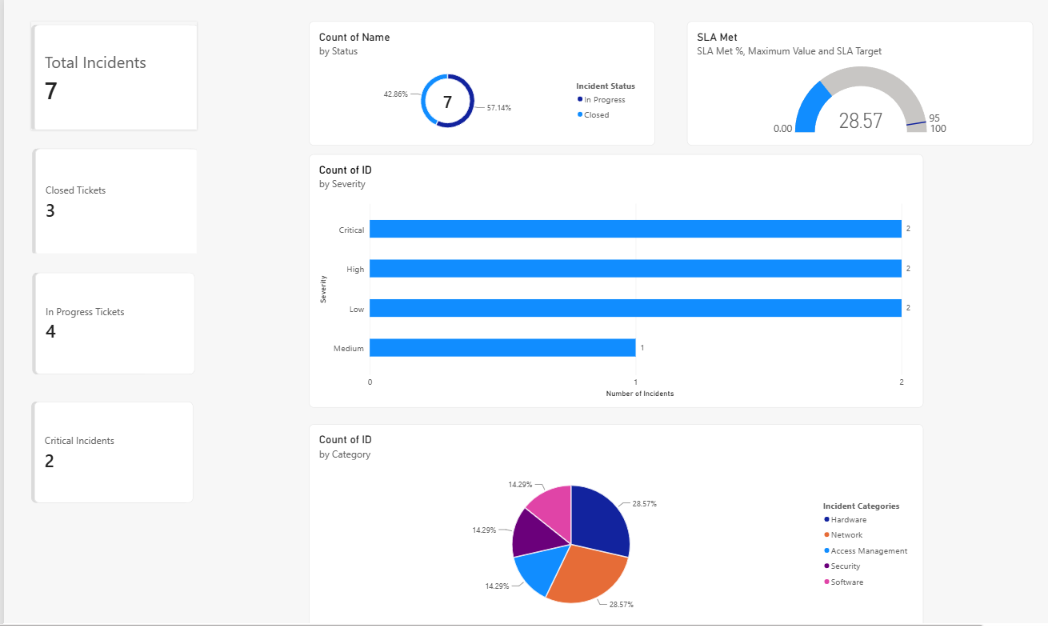

What the dashboard file says about the page in this screenshot:
{"tool":"powerbi","page":{"name":"Page 1","canvas":[1920,1080],"ordinal":0},"visuals":[{"type":"cardVisual","fields":{"Data":["ITSupport_SampleIncidents.Total Incidents"]},"box":[45.1,36.9,277,180.6],"z":0},{"type":"cardVisual","fields":{"Data":["ITSupport_SampleIncidents.Closed Tickets"]},"box":[47.2,244.2,274.9,180.6],"z":1000},{"type":"cardVisual","fields":{"Data":["ITSupport_SampleIncidents.In Progress Tickets"]},"box":[47.2,449.3,277,181],"z":2000},{"type":"cardVisual","fields":{"Data":["ITSupport_SampleIncidents.Critical Incidents"]},"box":[45.1,664.8,277,180.6],"z":3000},{"type":"donutChart","fields":{"Category":["ITSupport_SampleIncidents.Status"],"Y":["CountNonNull(ITSupport_SampleIncidents.Name)"]},"box":[508.8,36.9,576.5,207.2],"z":4000},{"type":"clusteredBarChart","fields":{"Category":["ITSupport_SampleIncidents.Severity"],"Y":["CountNonNull(ITSupport_SampleIncidents.ID)"]},"box":[508.8,258.5,1023.8,422.7],"z":5000},{"type":"pieChart","fields":{"Category":["ITSupport_SampleIncidents.Category"],"Y":["CountNonNull(ITSupport_SampleIncidents.ID)"]},"box":[508.8,707.8,1023.8,342.6],"z":6000},{"type":"gauge","title":"SLA Met","fields":{"MaxValue":["ITSupport_SampleIncidents.Maximum Value"],"TargetValue":["ITSupport_SampleIncidents.SLA Target"],"Y":["ITSupport_SampleIncidents.SLA Met %"]},"box":[1138.7,36.9,576.5,207.2],"z":6001}]}

Visuals, with their boxes on the page's 1920x1080 design canvas (x1, y1, x2, y2). These are canvas units, not pixel positions in the 1048x626 screenshot, which may show the page scaled, cropped or inside an application window:
cardVisual - ITSupport_SampleIncidents.Total Incidents: box=[45, 37, 322, 218]
cardVisual - ITSupport_SampleIncidents.Closed Tickets: box=[47, 244, 322, 425]
cardVisual - ITSupport_SampleIncidents.In Progress Tickets: box=[47, 449, 324, 630]
cardVisual - ITSupport_SampleIncidents.Critical Incidents: box=[45, 665, 322, 845]
donutChart - ITSupport_SampleIncidents.Status x CountNonNull(ITSupport_SampleIncidents.Name): box=[509, 37, 1085, 244]
clusteredBarChart - ITSupport_SampleIncidents.Severity x CountNonNull(ITSupport_SampleIncidents.ID): box=[509, 258, 1533, 681]
pieChart - ITSupport_SampleIncidents.Category x CountNonNull(ITSupport_SampleIncidents.ID): box=[509, 708, 1533, 1050]
"SLA Met" gauge: box=[1139, 37, 1715, 244]
